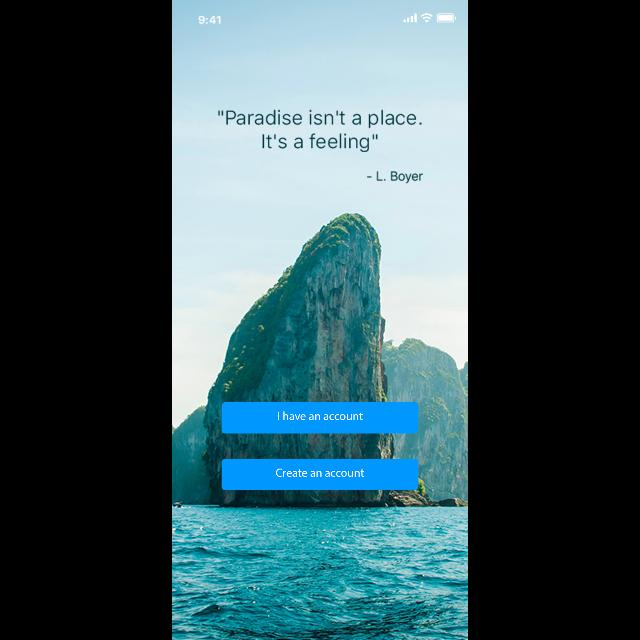backgroundimage: (172, 1, 468, 640)
text: (218, 109, 422, 153), (367, 170, 423, 183)
textbutton: (222, 402, 418, 433), (222, 460, 418, 490)
uppertaskbar: (199, 13, 457, 25)
